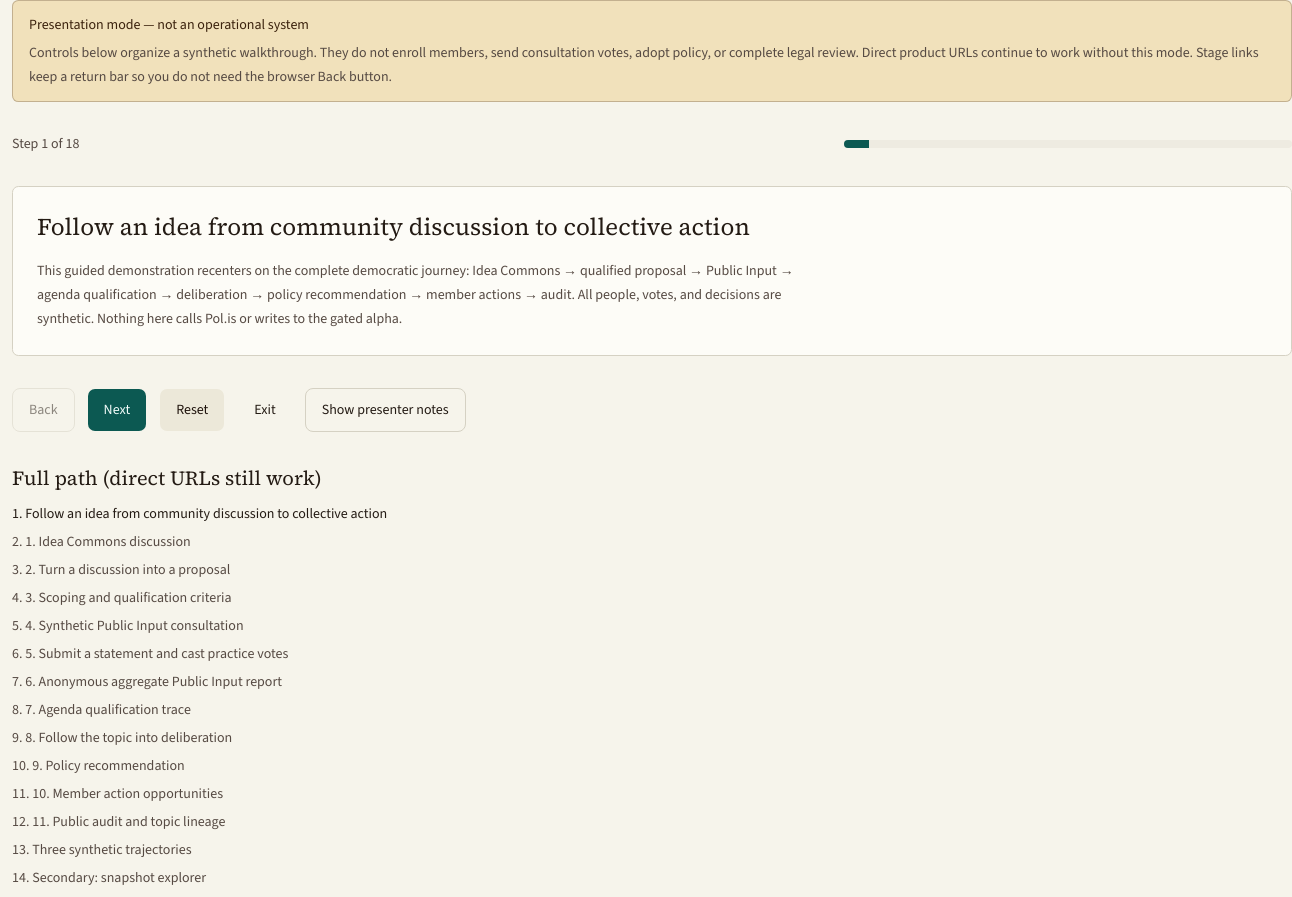
Test case: GuidedDemo › advances the computational-democracy journey and resets local state
Check: the heading "Follow an idea from community discussion to collective action" is shown, box [37,210,750,243]
Click the button "Next".
click(117, 410)  # box [87,388,147,432]
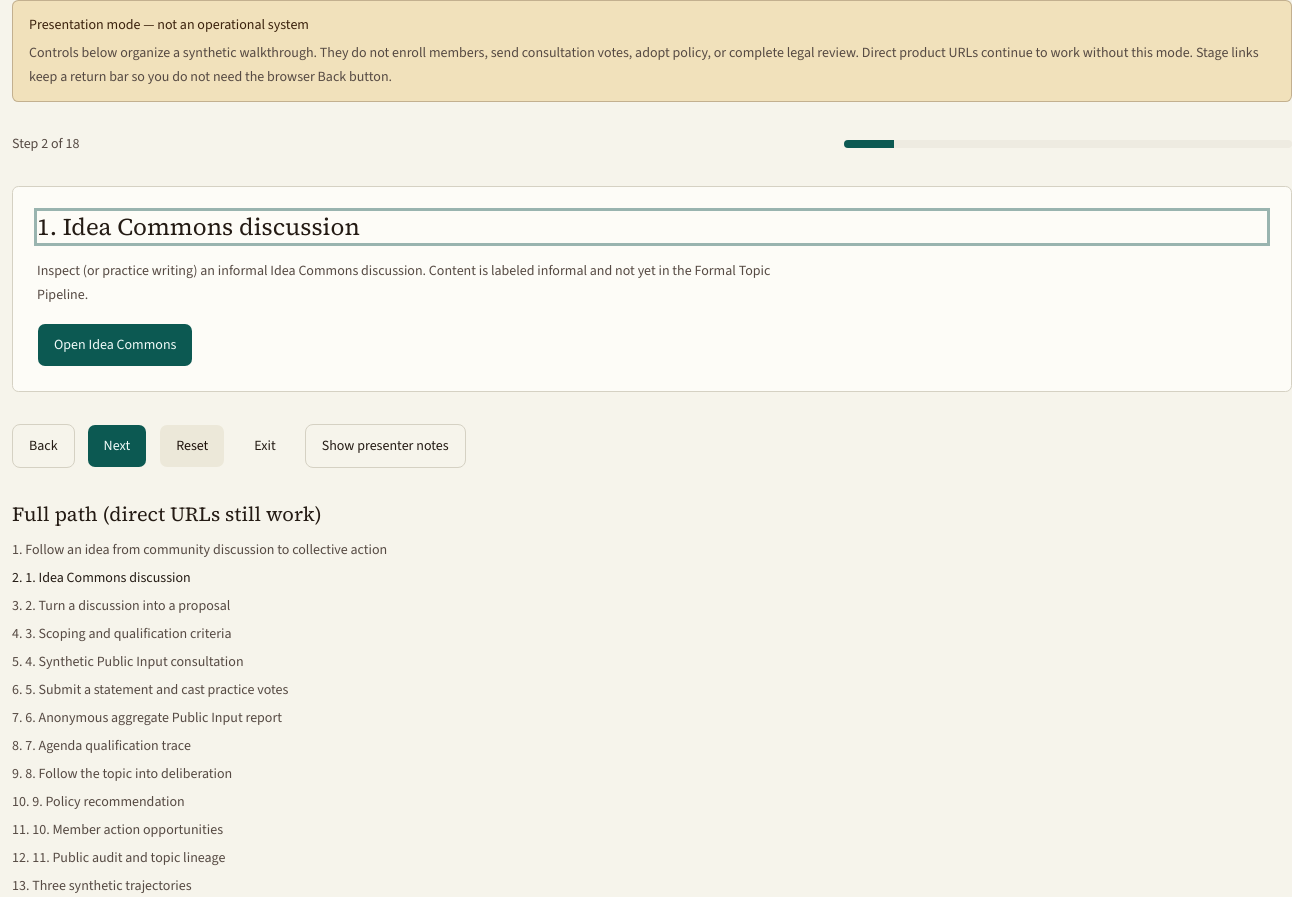
Check: the heading "1. Idea Commons discussion" is shown, box [37,211,1267,243]
Click the button "Show presenter notes".
click(385, 446)  # box [305,424,466,468]
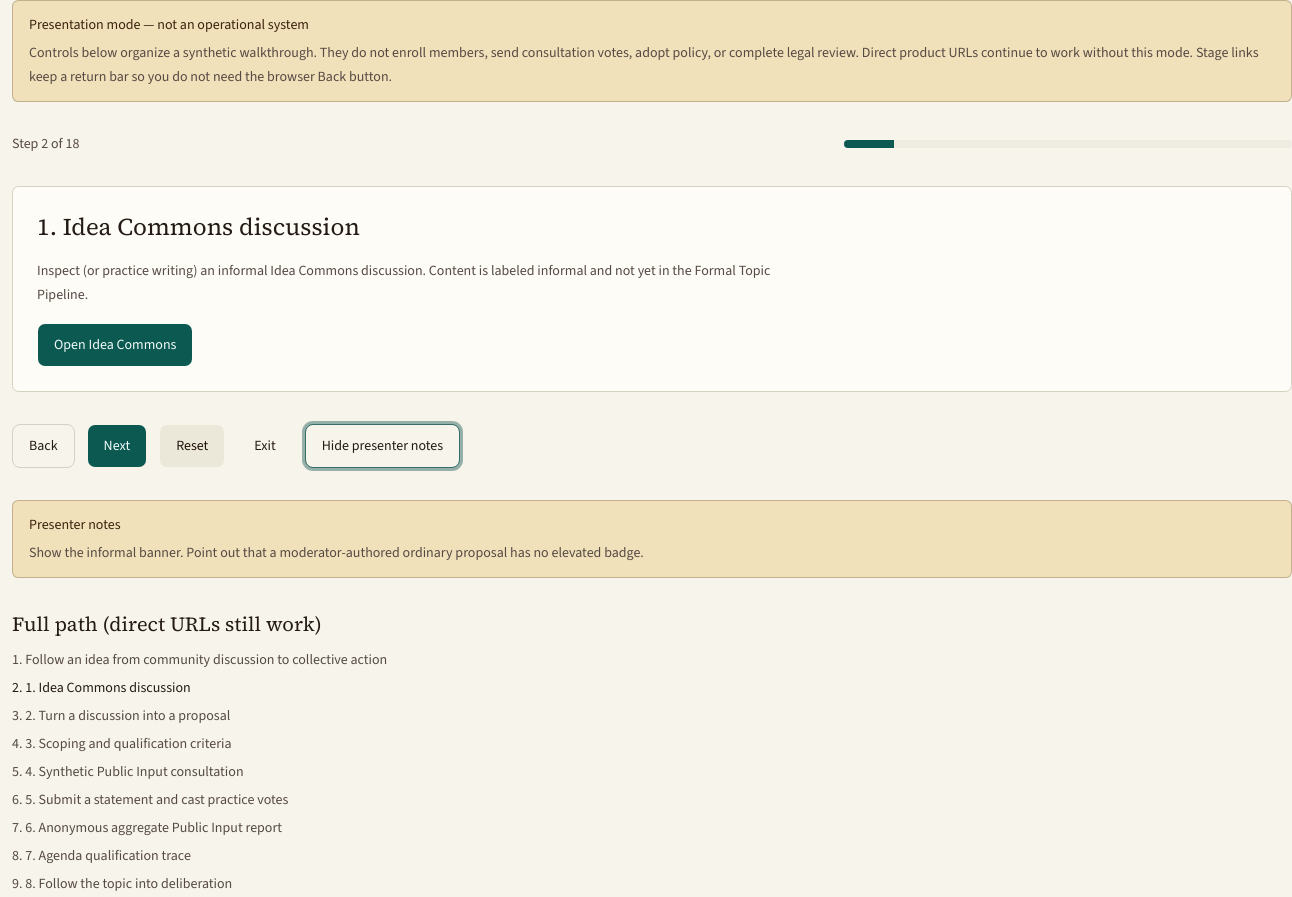
Check: the element labelled "Presenter notes" is shown, box [12,500,1291,578]
Click the button "Reset".
click(192, 446)  # box [159,424,225,468]
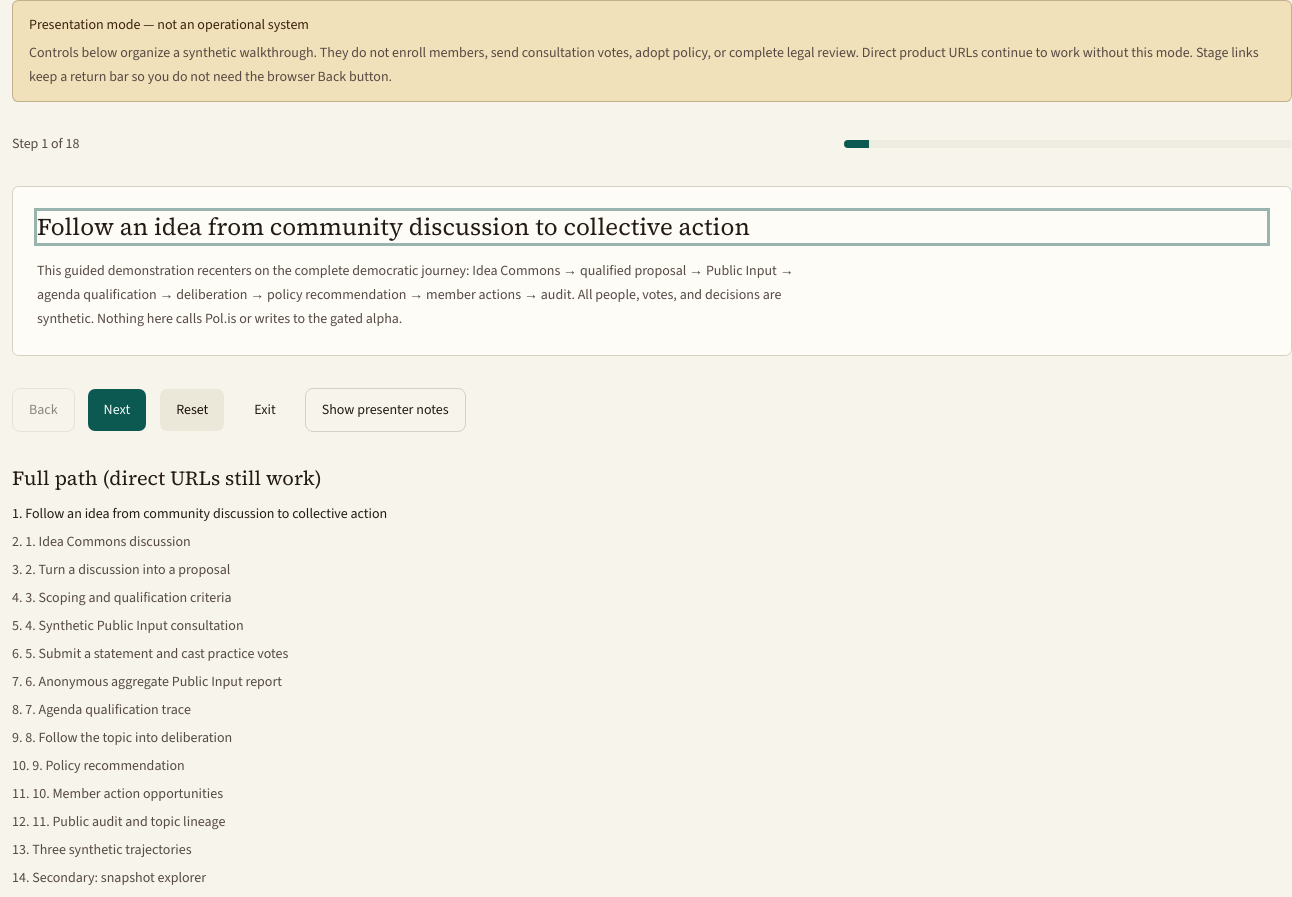
Check: the heading "Follow an idea from community discussion to collective action" is shown, box [37,211,1267,243]
